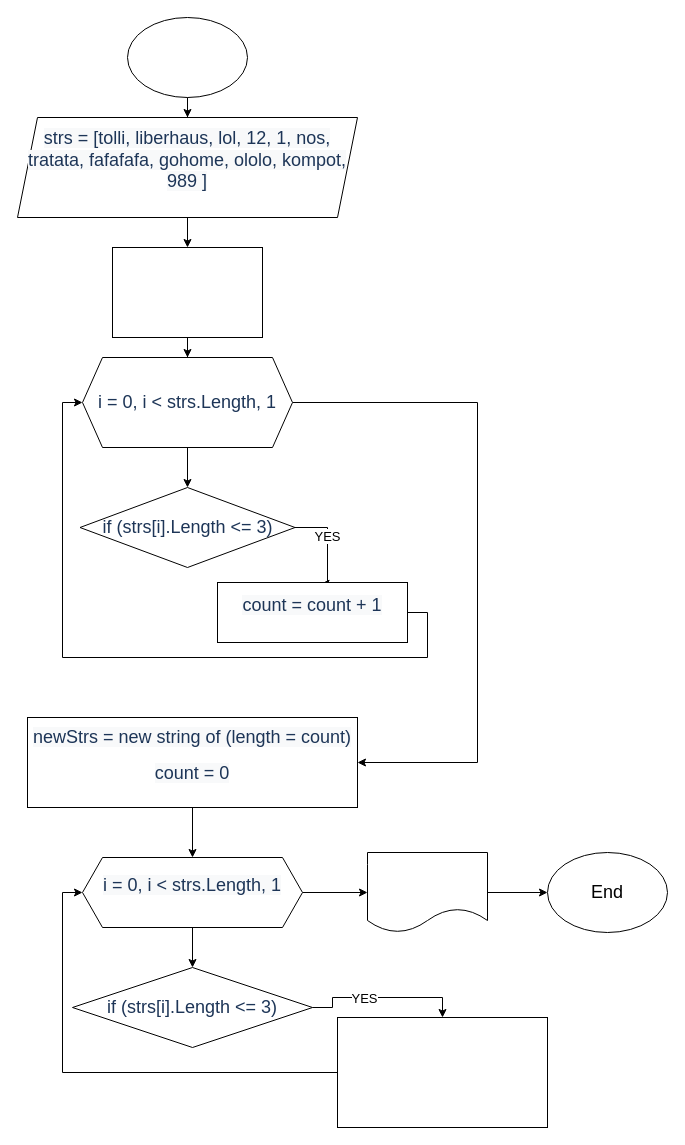
This 685x1145 diagram has some shape labels left out. The shapes that lost their labels are listed below. From the top down, each one's centre as x and y in pixels, then its label:
the point at 187,57: Start
the point at 187,292: count = 0 string array: newStrs
the point at 427,892: newStrs
the point at 442,1072: newStrs[count] = strs[i] count = count + 1
